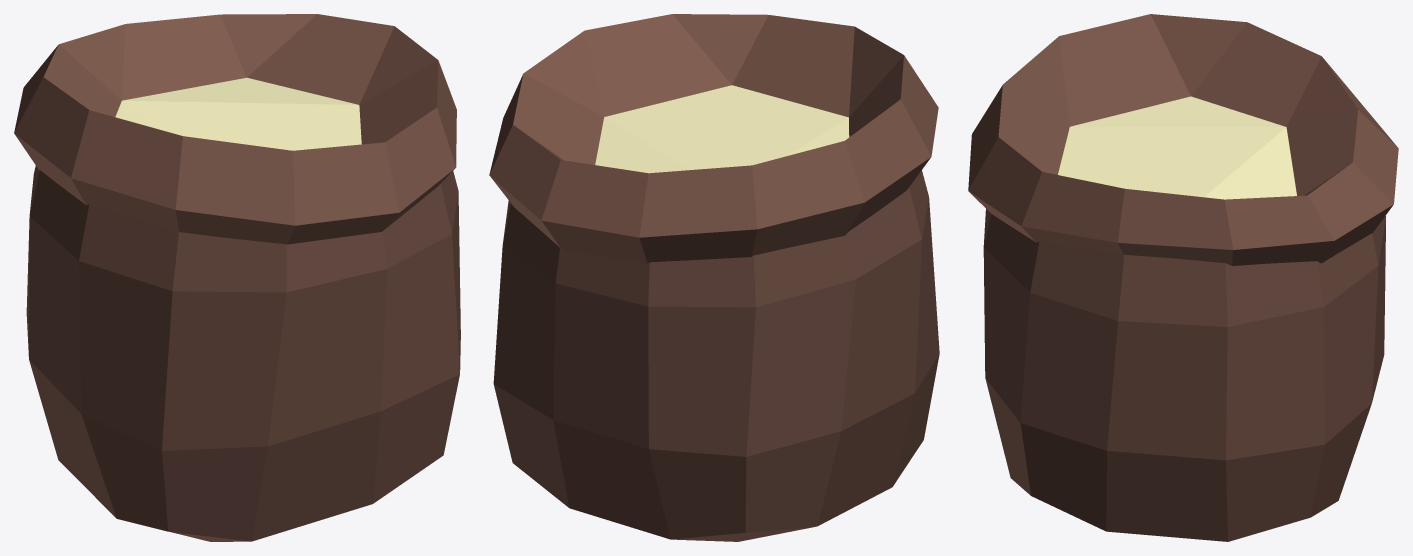
Rendered from props_044.glb.
The picture shows the model from 3 angles, left to right: view 1: azimuth 30°, elevation 25°; view 2: azimuth 150°, elevation 25°; view 3: azimuth 270°, elevation 25°; orthographic projection. The views are drawn at different scales.
Parts seen in each view (by area): view 1: props_044; view 2: props_044; view 3: props_044.
Part boxes in pixels (<box>): props_044: <box>14,14,460,541</box>; props_044: <box>489,14,939,541</box>; props_044: <box>968,14,1398,541</box>.
Size of the model in its own units: 1.16 by 1.28 by 1.19.
Materials: 1 (1 with a texture image).
